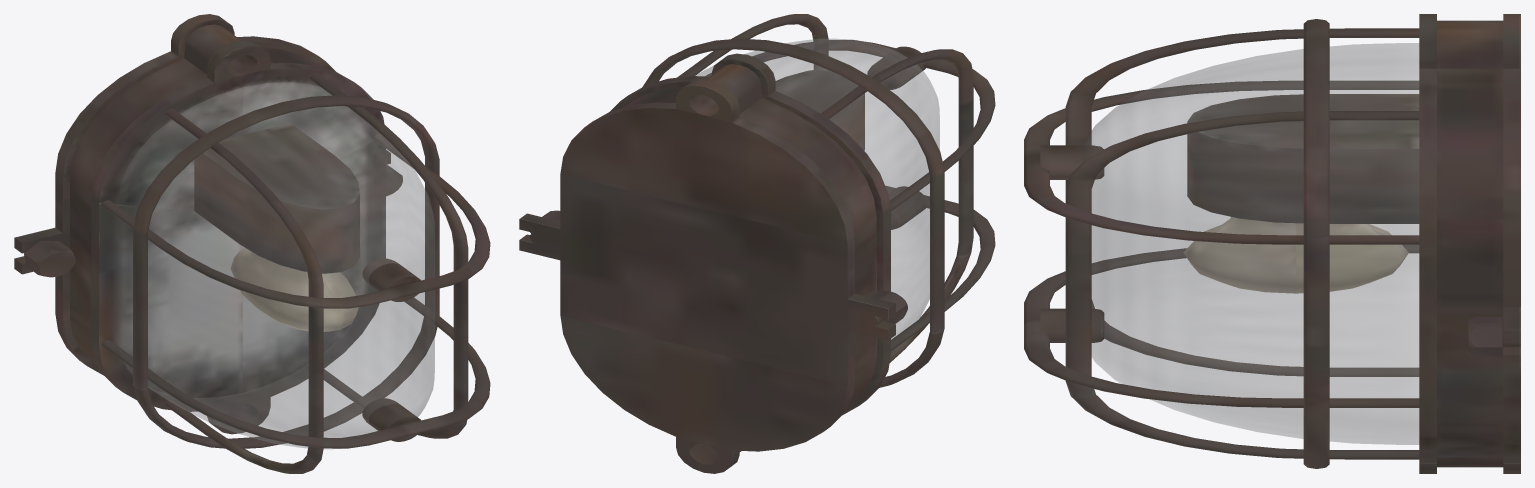
Rendered from ph-industrial-wall-lamp.glb.
3 views of the same model, side by side, from view 1: azimuth 30°, elevation 25°; view 2: azimuth 150°, elevation 25°; view 3: azimuth 270°, elevation 25° (orthographic). The views are drawn at different scales.
Visible parts, largest first — view 1: industrial_wall_lamp; view 2: industrial_wall_lamp; view 3: industrial_wall_lamp.
Part boxes in pixels (bbox=[...]): industrial_wall_lamp: bbox=[14, 14, 490, 473]; industrial_wall_lamp: bbox=[519, 14, 995, 473]; industrial_wall_lamp: bbox=[1024, 14, 1520, 473].
Size of the model in its own units: 1 by 1 by 1.
Materials: 2 (2 with a texture image).
